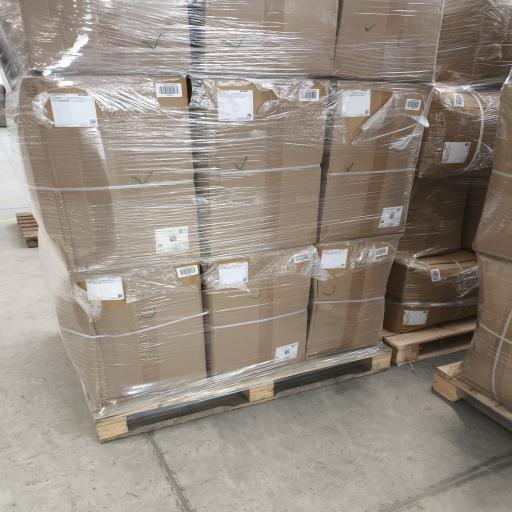pallet: (95, 344, 391, 442), (433, 362, 511, 431), (383, 317, 476, 365), (16, 212, 38, 247)
